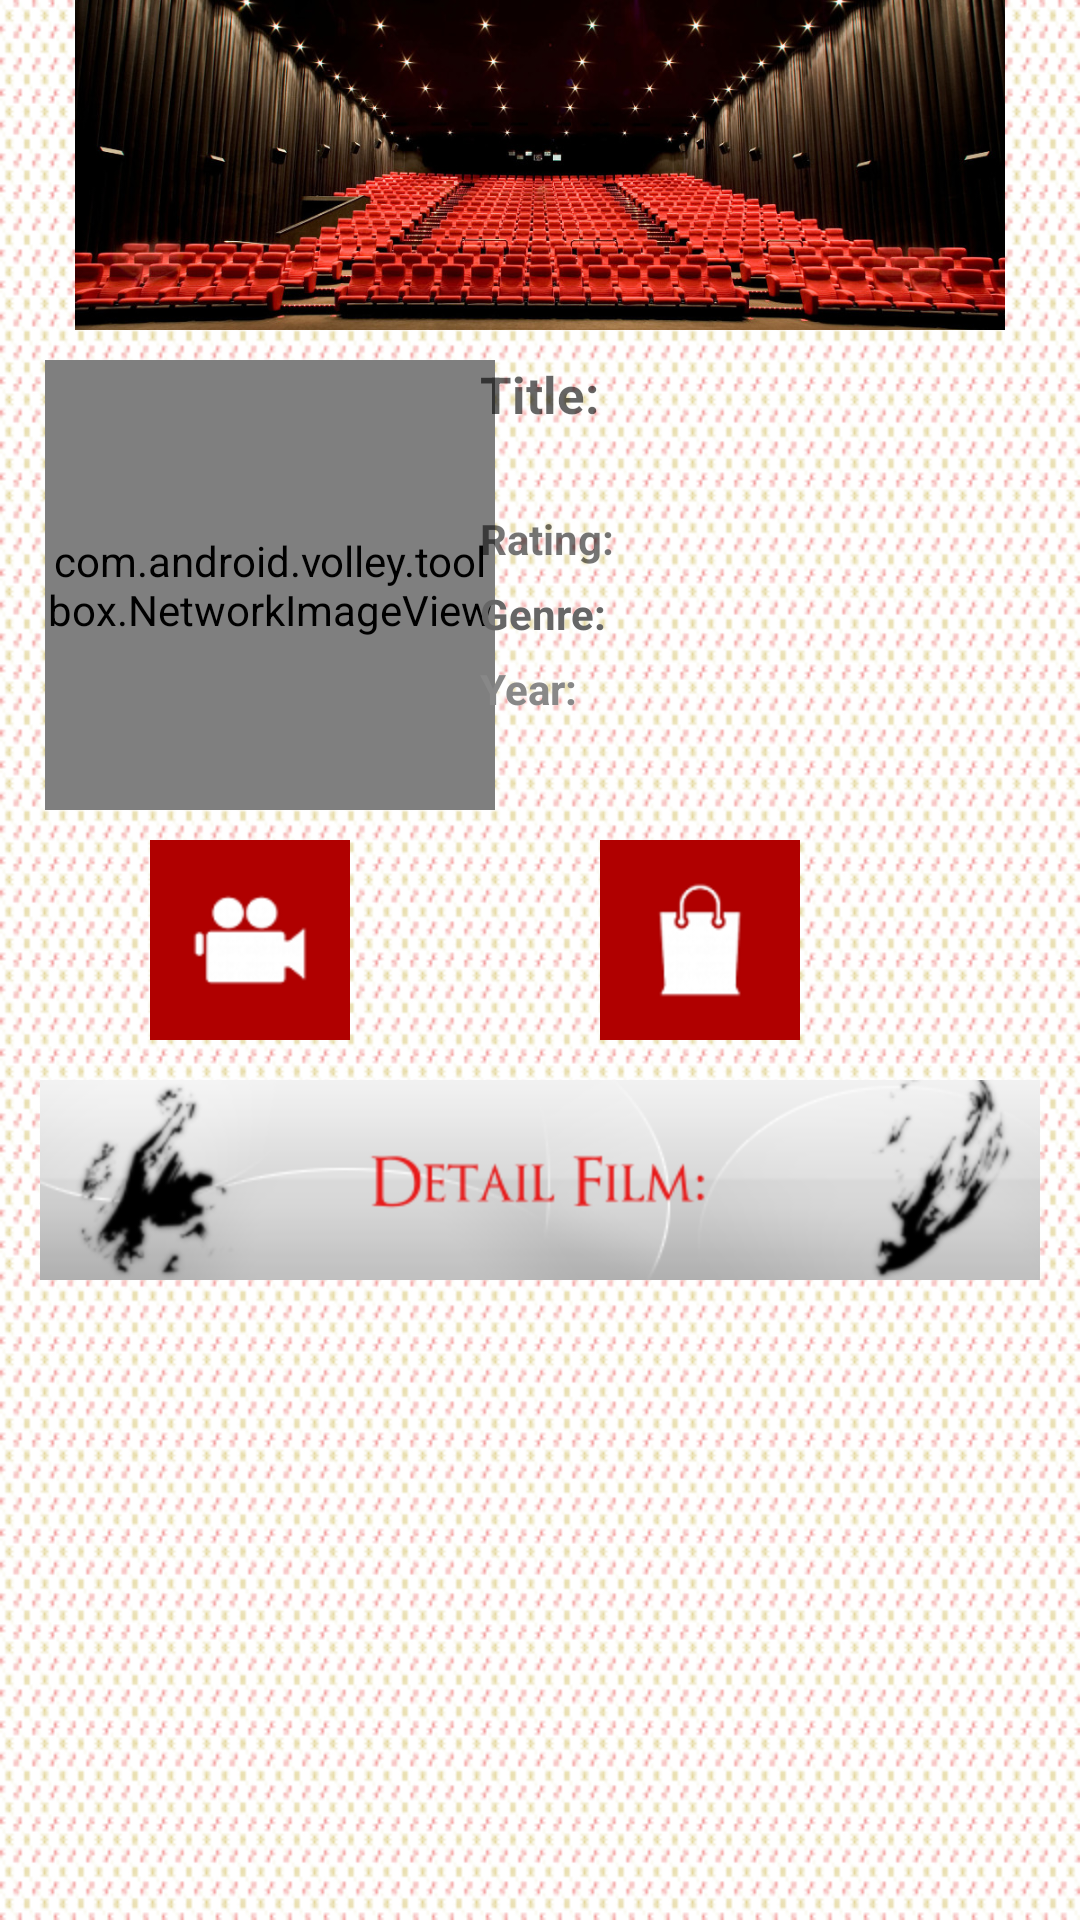

Where to tap for icons on this 1080×1920 app screen, as (x=x, y=y):
booking: (x=700, y=940)
watchtrailer: (x=250, y=940)
